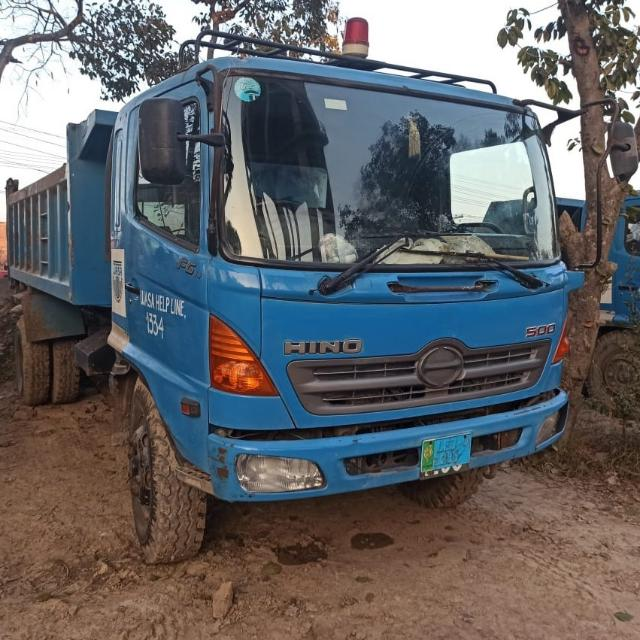plate: (417, 428, 477, 472)
